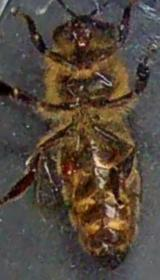varroa_mite: (54, 152, 86, 180)
